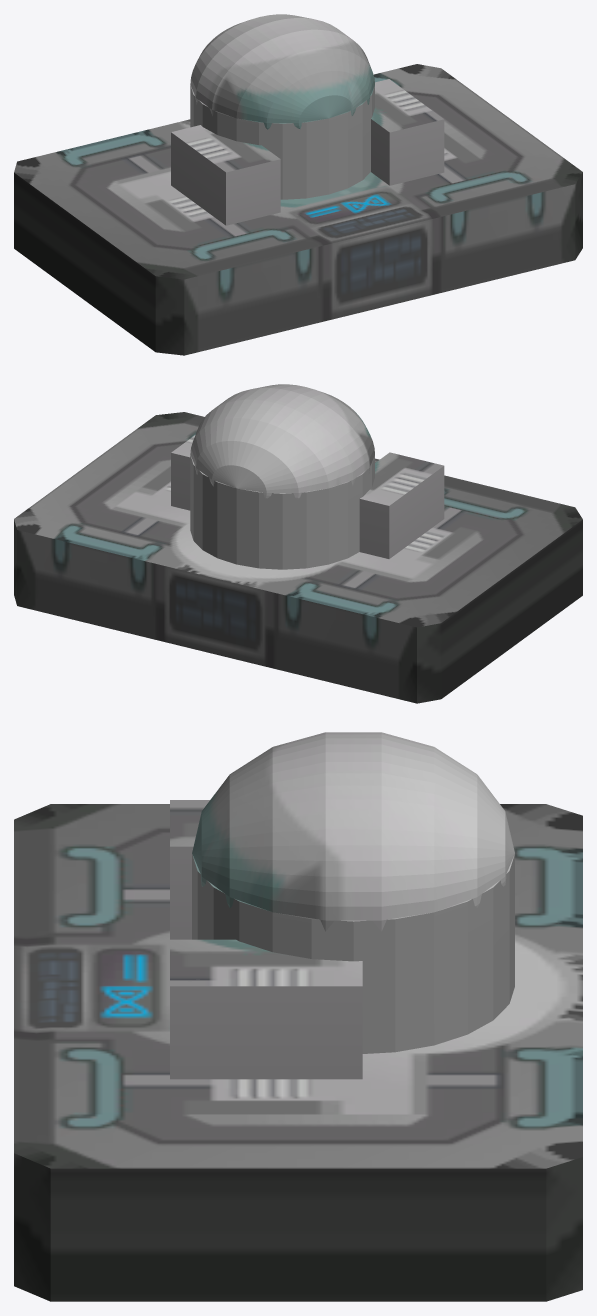
File: Building_GeneAssembler.obj
3 renders of one model, top to bottom at view 1: azimuth 30°, elevation 25°; view 2: azimuth 150°, elevation 25°; view 3: azimuth 270°, elevation 25°, orthographic. The views are drawn at different scales.
Visible parts, largest first — view 1: Body; view 2: Body; view 3: Body.
Part boxes in pixels (bbox=[...]): Body: bbox=[14, 14, 582, 355]; Body: bbox=[14, 384, 582, 703]; Body: bbox=[14, 732, 582, 1301].
Bounding box in the file's own units: 2.94 × 1.38 × 1.94.
Materials: 1 (1 with a texture image).
